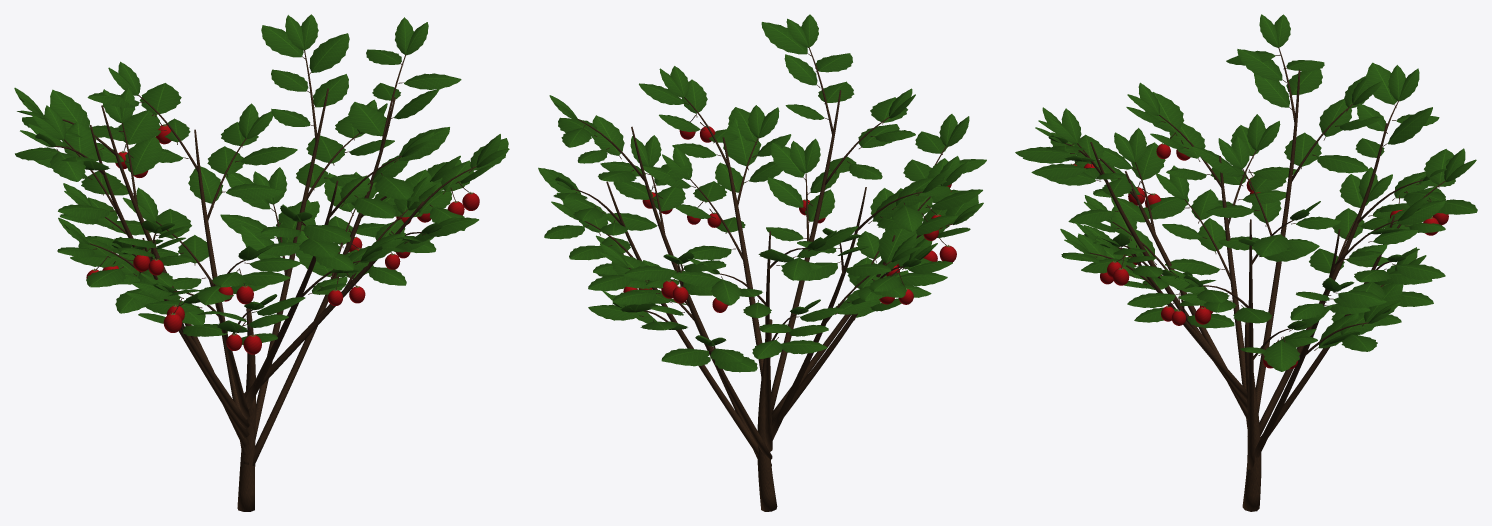
The model's file is healing_red_bush_ripe.glb.
The picture shows the model from 3 angles, left to right: view 1: azimuth 30°, elevation 25°; view 2: azimuth 150°, elevation 25°; view 3: azimuth 270°, elevation 25°; orthographic projection. The views are drawn at different scales.
Parts seen in each view (by area): view 1: Healing_Red_Branches_And_Leaves; view 2: Healing_Red_Branches_And_Leaves; view 3: Healing_Red_Branches_And_Leaves.
Part boxes in pixels (left/top/right/bottom): Healing_Red_Branches_And_Leaves: left=14, top=14, right=509, bottom=511; Healing_Red_Branches_And_Leaves: left=538, top=14, right=986, bottom=511; Healing_Red_Branches_And_Leaves: left=1015, top=14, right=1477, bottom=511.
Bounding box in the file's own units: 0.8208 × 0.7938 × 0.8044.
4 materials, 3 textured.
